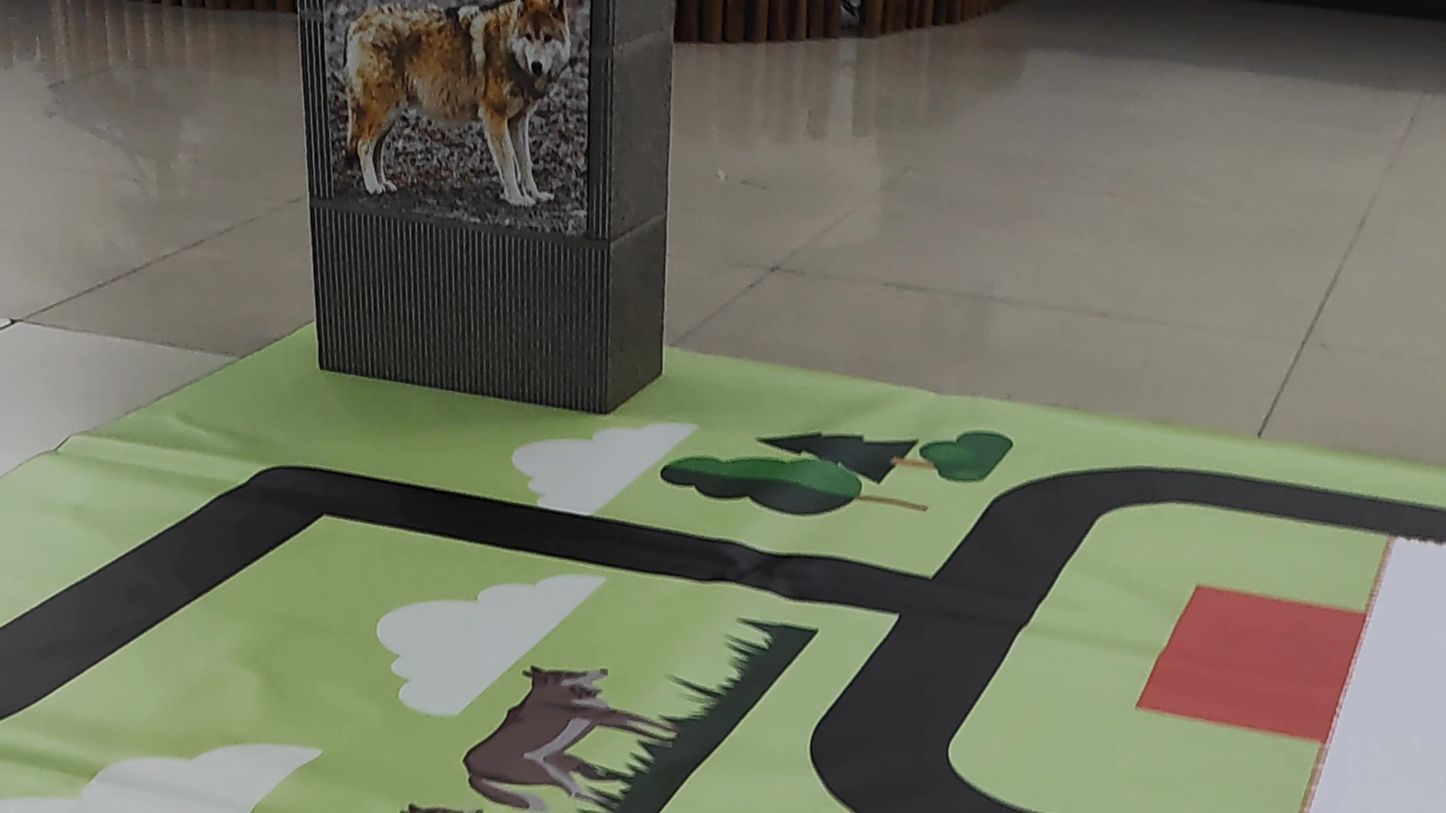wolf: (325, 6, 589, 216)
